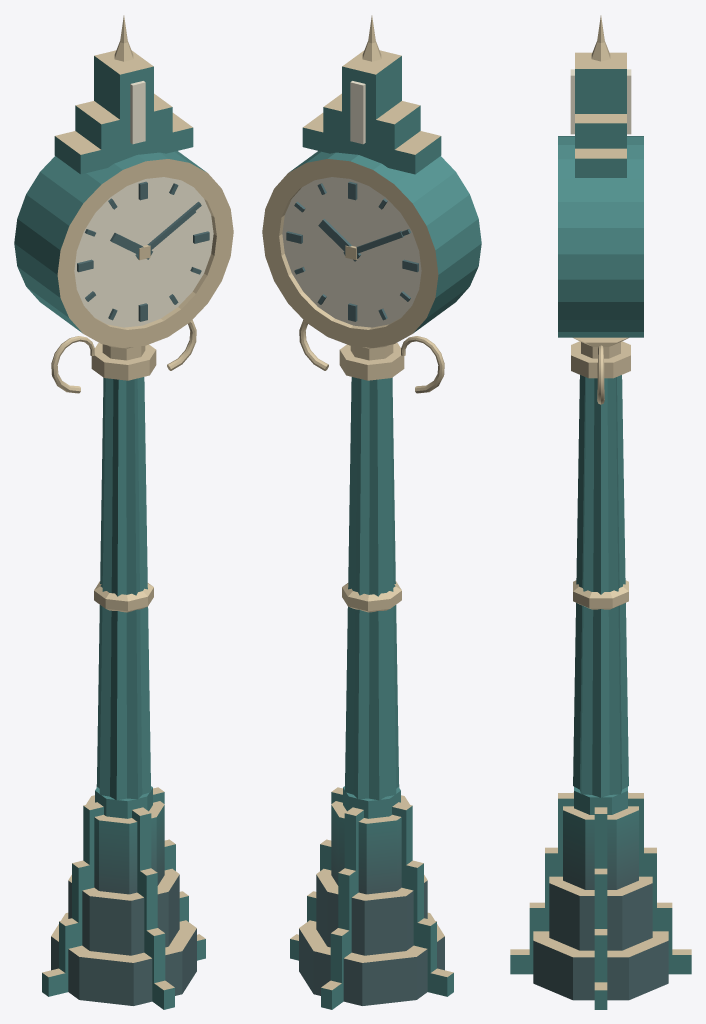
Rendered from KC32__AD_Ext_Clock_Post.glb.
The picture shows the model from 3 angles, left to right: view 1: azimuth 30°, elevation 25°; view 2: azimuth 150°, elevation 25°; view 3: azimuth 270°, elevation 25°; orthographic projection.
Parts seen in each view (by area): view 1: KC32_CORPS__AD_Ext_Clock_Post, KC32_BRONZE__AD_Ext_Clock_Post, KC32_LUMIERE__AD_Ext_Clock_Post; view 2: KC32_CORPS__AD_Ext_Clock_Post, KC32_BRONZE__AD_Ext_Clock_Post, KC32_LUMIERE__AD_Ext_Clock_Post; view 3: KC32_CORPS__AD_Ext_Clock_Post, KC32_BRONZE__AD_Ext_Clock_Post, KC32_LUMIERE__AD_Ext_Clock_Post.
Boxes of the visible parts, left/top/right/bottom form: KC32_CORPS__AD_Ext_Clock_Post: left=14, top=56, right=209, bottom=1009; KC32_BRONZE__AD_Ext_Clock_Post: left=42, top=15, right=233, bottom=990; KC32_LUMIERE__AD_Ext_Clock_Post: left=74, top=81, right=213, bottom=327; KC32_CORPS__AD_Ext_Clock_Post: left=286, top=56, right=481, bottom=1009; KC32_BRONZE__AD_Ext_Clock_Post: left=262, top=15, right=453, bottom=990; KC32_LUMIERE__AD_Ext_Clock_Post: left=282, top=81, right=421, bottom=327; KC32_CORPS__AD_Ext_Clock_Post: left=510, top=69, right=691, bottom=1009; KC32_BRONZE__AD_Ext_Clock_Post: left=510, top=15, right=691, bottom=990; KC32_LUMIERE__AD_Ext_Clock_Post: left=570, top=69, right=631, bottom=134.
Bounding box in the file's own units: 0.94 × 4.9 × 0.84.
